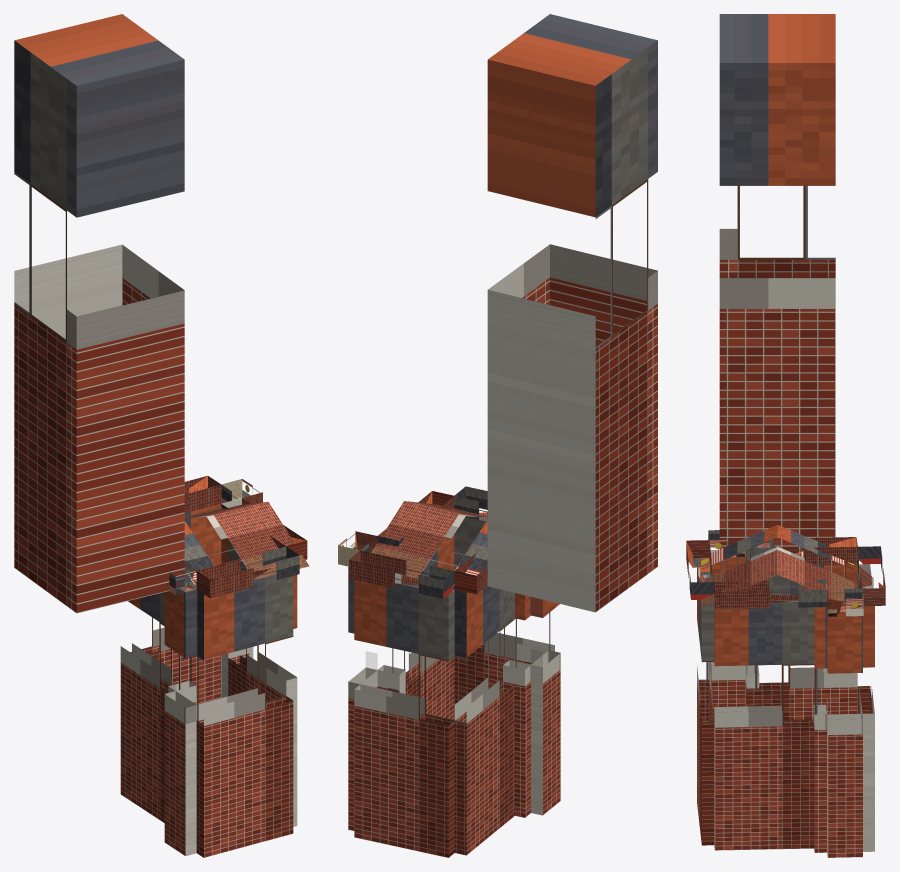
The picture shows the model from 3 angles, left to right: view 1: azimuth 30°, elevation 25°; view 2: azimuth 150°, elevation 25°; view 3: azimuth 270°, elevation 25°; orthographic projection. The views are drawn at different scales.
Parts seen in each view (by area): view 1: 921911875__chimney_0_xb, 921911875__wall_7_xb, 921911875__wall_2_xb, 921911875__wall_0_xb, 921911875_roof_-1_xb, 921911875__wall_3_xb, 921911875__wall_6_xb, 921911875__cornice_7, 921911875__cornice_3, 921911875__wall_5_xb, 921911875__cornice_4; view 2: 921911875__chimney_0_xb, 921911875__wall_3_xb, 921911875__wall_2_xb, 921911875__wall_0_xb, 921911875_roof_1_xb, 921911875__wall_7_xb, 921911875__wall_6_xb, 921911875__wall_1_xb, 921911875__cornice_3, 921911875__wall_4_xb, 921911875__cornice_7, 921911875__cornice_2 (+2 smaller); view 3: 921911875__chimney_0_xb, 921911875__wall_6_xb, 921911875__wall_4_xb, 921911875__wall_2_xb, 921911875__wall_7_xb, 921911875__wall_3_xb, 921911875__wall_5_xb, 921911875_roof_1_xb, 921911875_roof_-1_xb, 921911875__cornice_6, 921911875__wall_0_xb, 921911875__cornice_2 (+3 smaller).
Boxes of the visible parts, left/top/right/bottom form: 921911875__chimney_0_xb: left=14, top=14, right=184, bottom=613; 921911875__wall_7_xb: left=196, top=574, right=293, bottom=857; 921911875__wall_2_xb: left=120, top=592, right=191, bottom=822; 921911875__wall_0_xb: left=164, top=587, right=196, bottom=856; 921911875_roof_-1_xb: left=184, top=501, right=309, bottom=584; 921911875__wall_3_xb: left=130, top=503, right=221, bottom=704; 921911875__wall_6_xb: left=228, top=540, right=297, bottom=826; 921911875__cornice_7: left=196, top=546, right=299, bottom=598; 921911875__cornice_3: left=184, top=475, right=221, bottom=512; 921911875__wall_5_xb: left=221, top=538, right=249, bottom=697; 921911875__cornice_4: left=221, top=479, right=262, bottom=503; 921911875__chimney_0_xb: left=487, top=14, right=657, bottom=612; 921911875__wall_3_xb: left=354, top=579, right=454, bottom=857; 921911875__wall_2_xb: left=454, top=586, right=516, bottom=855; 921911875__wall_0_xb: left=531, top=597, right=560, bottom=815; 921911875_roof_1_xb: left=371, top=501, right=487, bottom=578; 921911875__wall_7_xb: left=454, top=517, right=554, bottom=719; 921911875__wall_6_xb: left=387, top=535, right=454, bottom=719; 921911875__wall_1_xb: left=503, top=593, right=530, bottom=817; 921911875__cornice_3: left=349, top=550, right=454, bottom=598; 921911875__wall_4_xb: left=348, top=566, right=377, bottom=830; 921911875__cornice_7: left=454, top=486, right=487, bottom=519; 921911875__cornice_2: left=454, top=553, right=487, bottom=594; 921911875__chimney_0_xb: left=719, top=14, right=835, bottom=553; 921911875__wall_6_xb: left=714, top=600, right=817, bottom=850; 921911875__wall_4_xb: left=827, top=606, right=862, bottom=857; 921911875__wall_2_xb: left=746, top=564, right=857, bottom=719; 921911875__wall_7_xb: left=697, top=557, right=714, bottom=845; 921911875__wall_3_xb: left=857, top=564, right=874, bottom=851; 921911875__wall_5_xb: left=813, top=607, right=826, bottom=852; 921911875_roof_1_xb: left=777, top=525, right=854, bottom=605; 921911875_roof_-1_xb: left=701, top=525, right=777, bottom=606; 921911875__cornice_6: left=714, top=579, right=827, bottom=609; 921911875__wall_0_xb: left=709, top=555, right=745, bottom=720; 921911875__cornice_2: left=746, top=537, right=857, bottom=565.
Size of the model in its own units: 0.3396 by 1.05 by 0.2575.
1 material, 1 textured.
